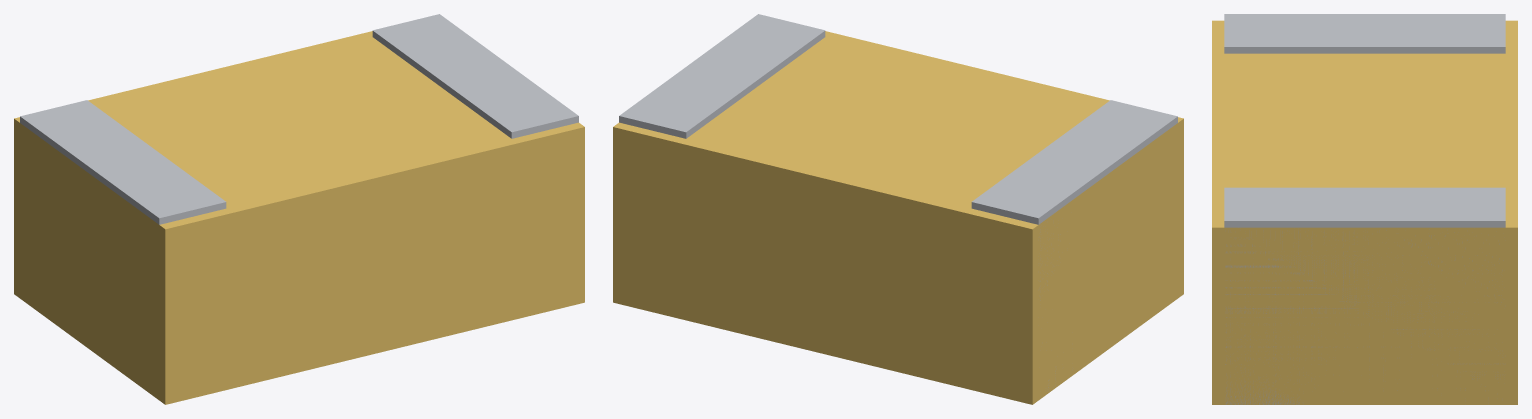
The model's file is led-0805.source.glb.
The picture shows the model from 3 angles, left to right: view 1: azimuth 30°, elevation 25°; view 2: azimuth 150°, elevation 25°; view 3: azimuth 270°, elevation 25°; orthographic projection.
Parts seen in each view (by area): view 1: body, lead-1, lead-2; view 2: body, lead-1, lead-2; view 3: body, lead-2, lead-1.
Boxes of the visible parts, left/top/right/bottom form: body: left=14, top=31, right=584, bottom=404; lead-1: left=20, top=100, right=226, bottom=224; lead-2: left=372, top=14, right=578, bottom=138; body: left=613, top=31, right=1183, bottom=404; lead-1: left=971, top=100, right=1177, bottom=387; lead-2: left=619, top=14, right=825, bottom=138; body: left=1212, top=20, right=1517, bottom=404; lead-2: left=1224, top=187, right=1505, bottom=404; lead-1: left=1224, top=14, right=1505, bottom=53.
Size of the model in its own units: 0.002 by 0.00083 by 0.00125.
